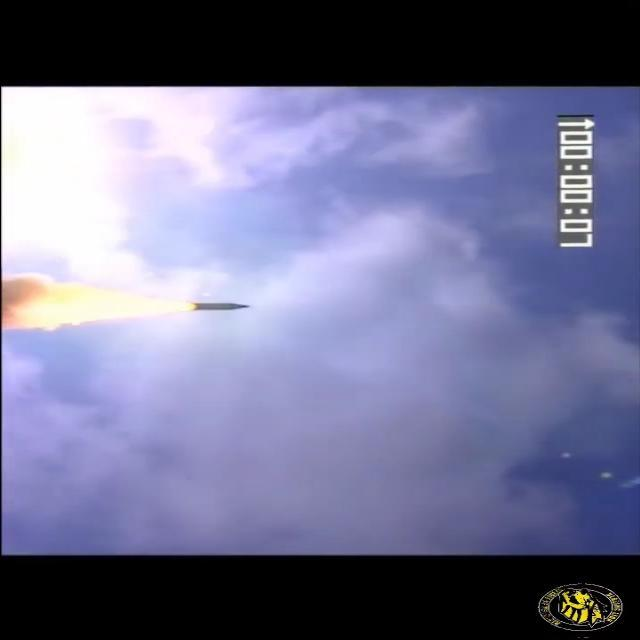missile: (176, 300, 258, 314)
